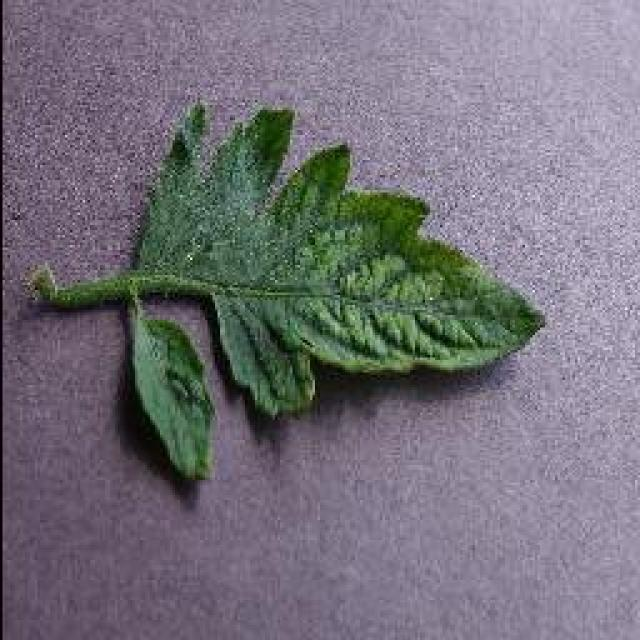Tomato___Tomato_mosaic_virus: (30, 105, 540, 472)
